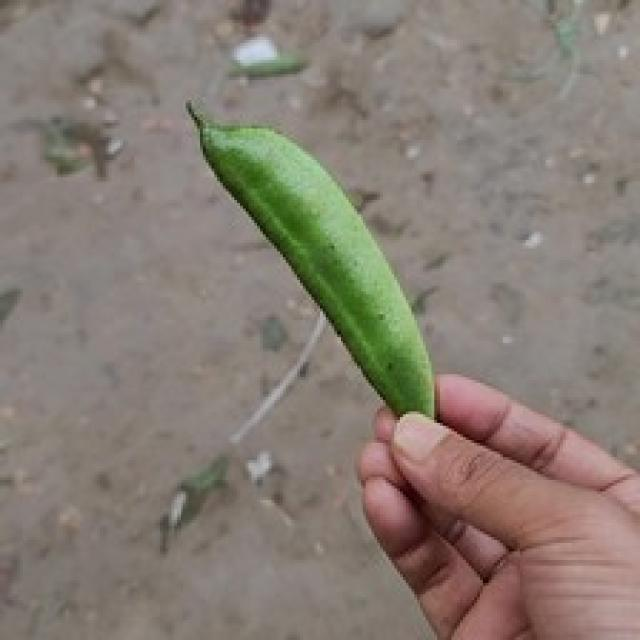Bean: (183, 97, 437, 420)
